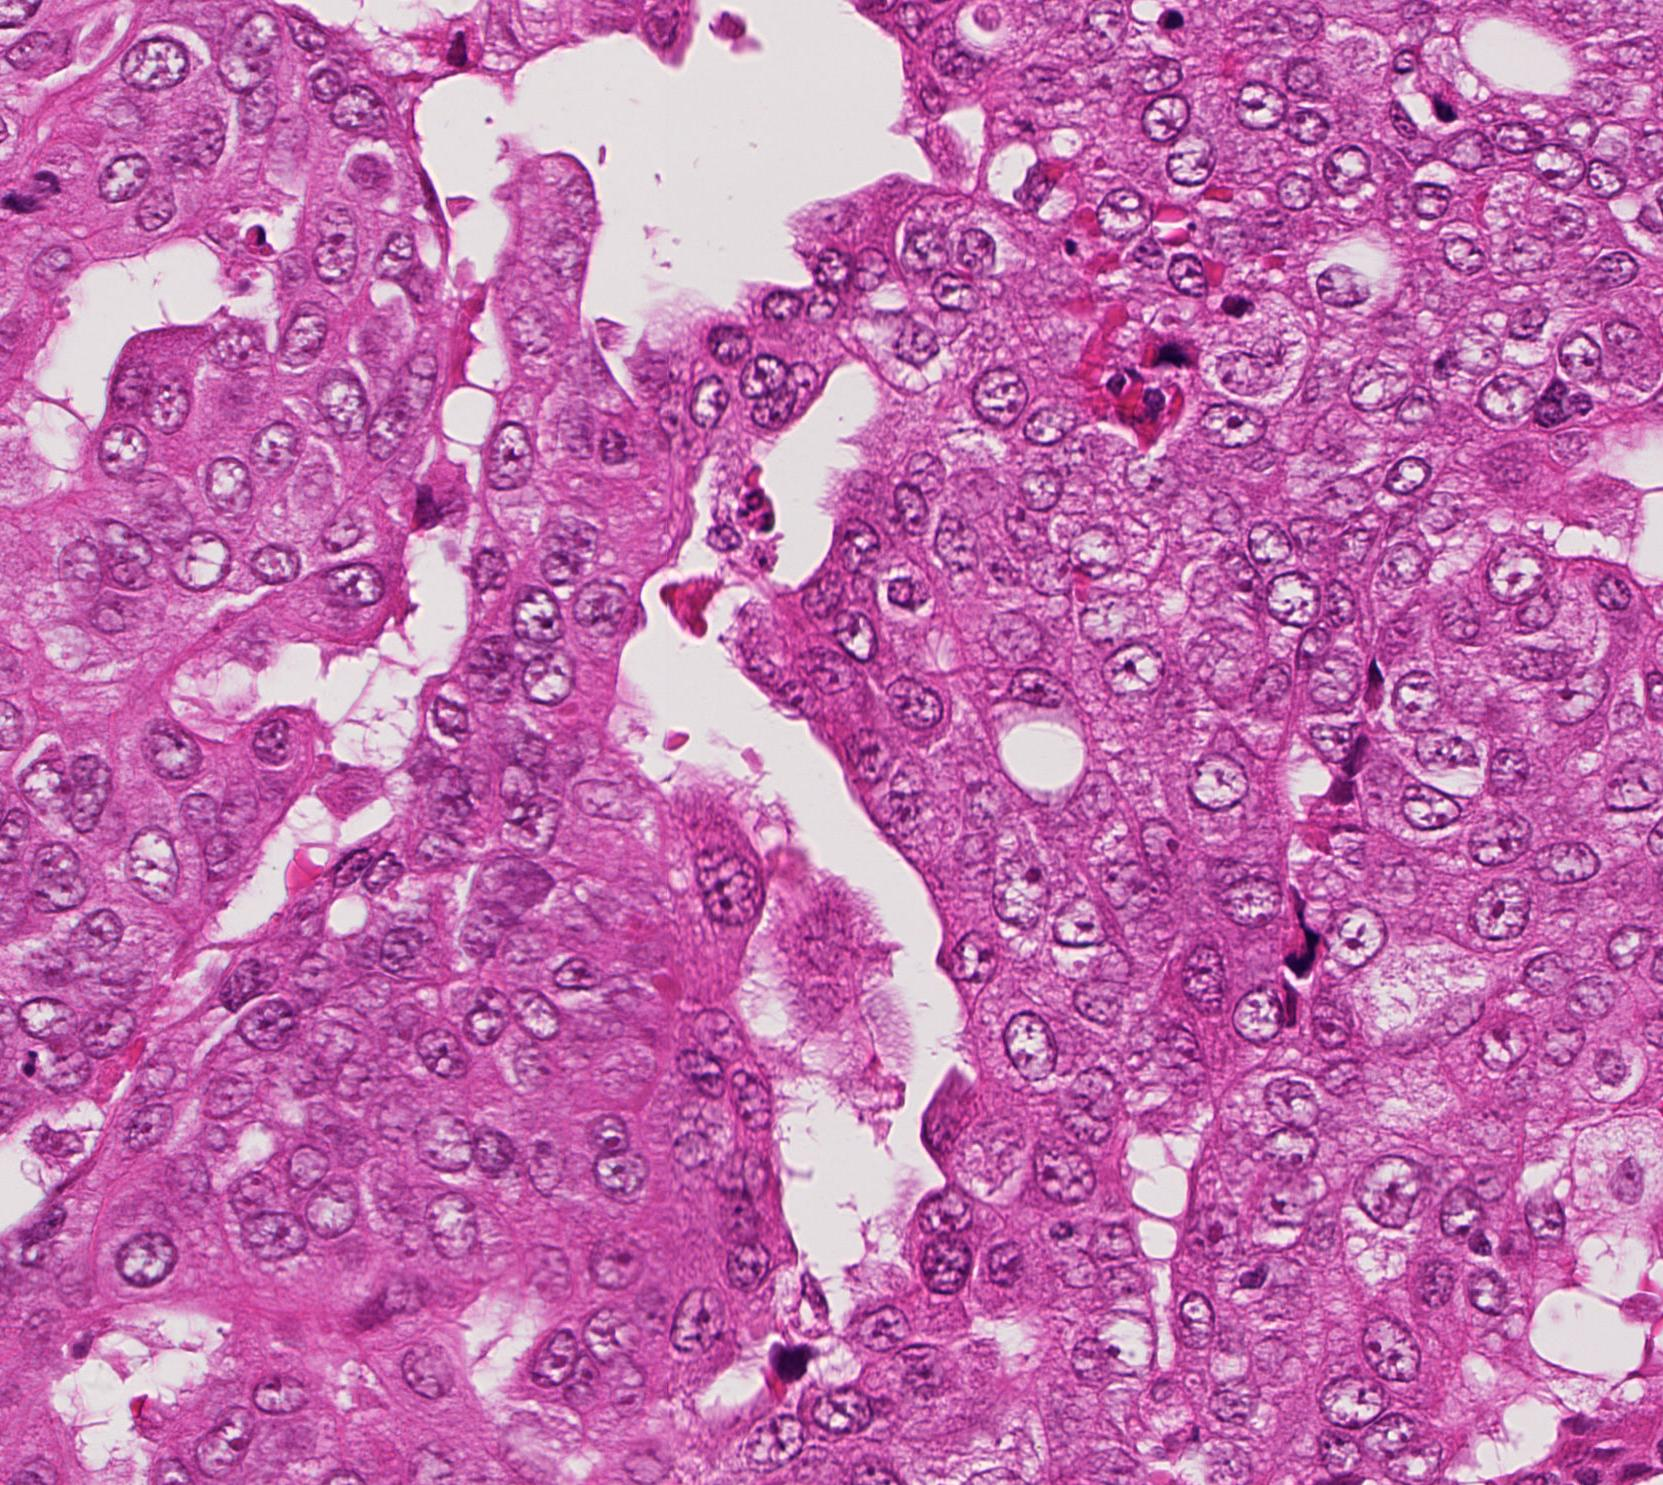mitosis: (4, 162, 65, 222)
